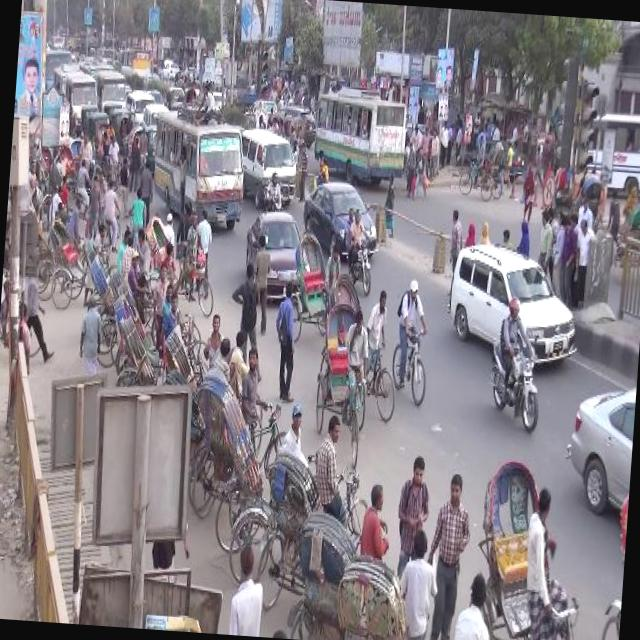bus: (148, 104, 252, 235), (308, 77, 414, 189), (59, 66, 101, 116), (96, 66, 134, 107)
car: (443, 229, 588, 372), (241, 204, 311, 308)
motorcycle: (254, 410, 368, 624), (470, 454, 598, 640), (210, 392, 306, 582), (188, 362, 290, 540), (285, 477, 394, 640), (334, 521, 444, 640), (308, 291, 377, 476), (486, 290, 548, 440), (82, 242, 151, 372), (118, 284, 199, 392), (46, 214, 116, 316), (286, 232, 346, 344), (160, 304, 230, 384), (338, 202, 381, 292), (456, 130, 510, 201), (602, 197, 640, 286), (260, 168, 288, 211)
truck: (234, 125, 300, 208)
